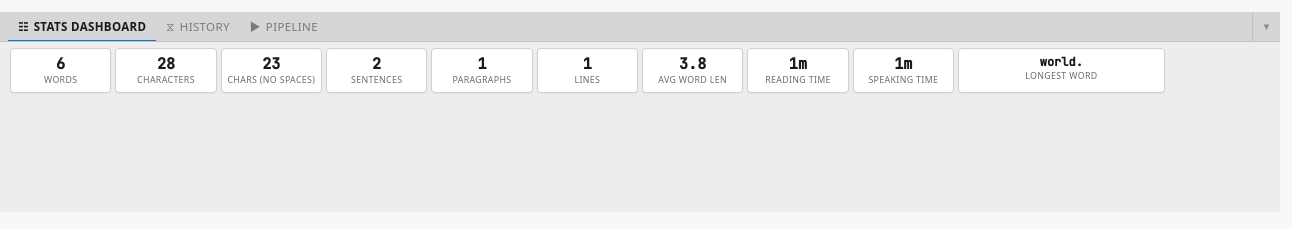
Scenario: BottomPanel › switches to history tab
The image size is (1292, 229).
Click the button "⧖ History".
click(198, 26)  # box [156,12,240,41]
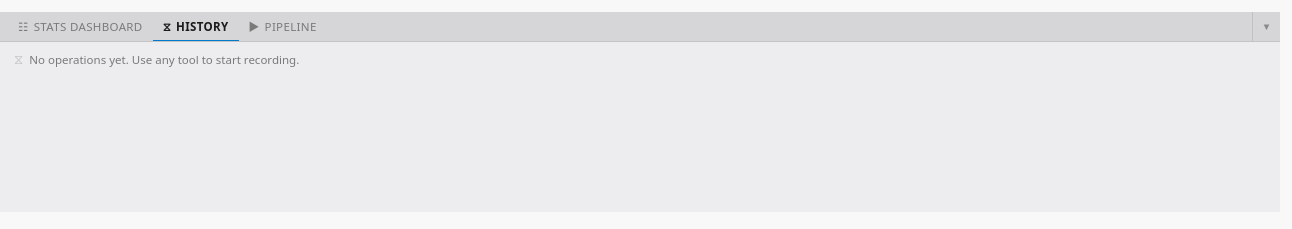
Expected: the text "No operations yet. Use any tool to start recording." is shown, [29,52,299,66]
